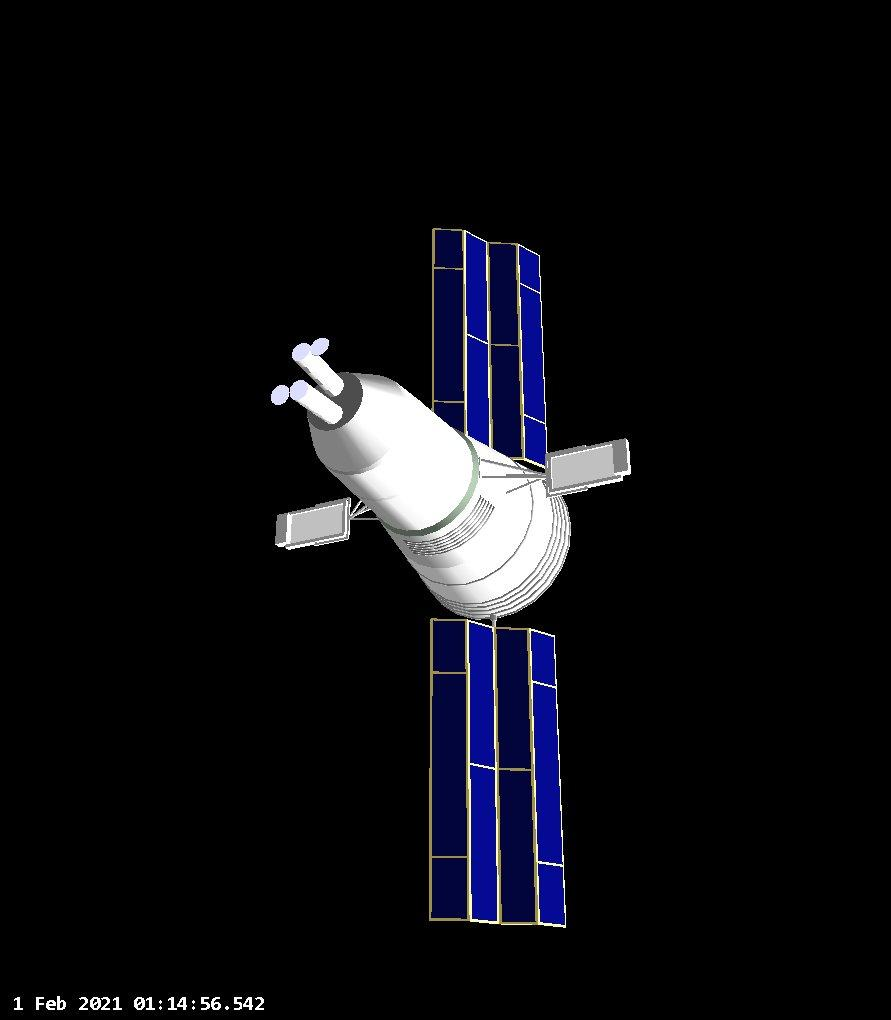antenna: (480, 438, 634, 497), (273, 496, 382, 551), (269, 384, 290, 406), (309, 337, 330, 357)
body: (306, 372, 573, 620)
solar: (428, 616, 566, 930), (431, 227, 549, 471)
thruster: (292, 342, 345, 397), (290, 380, 344, 425)
